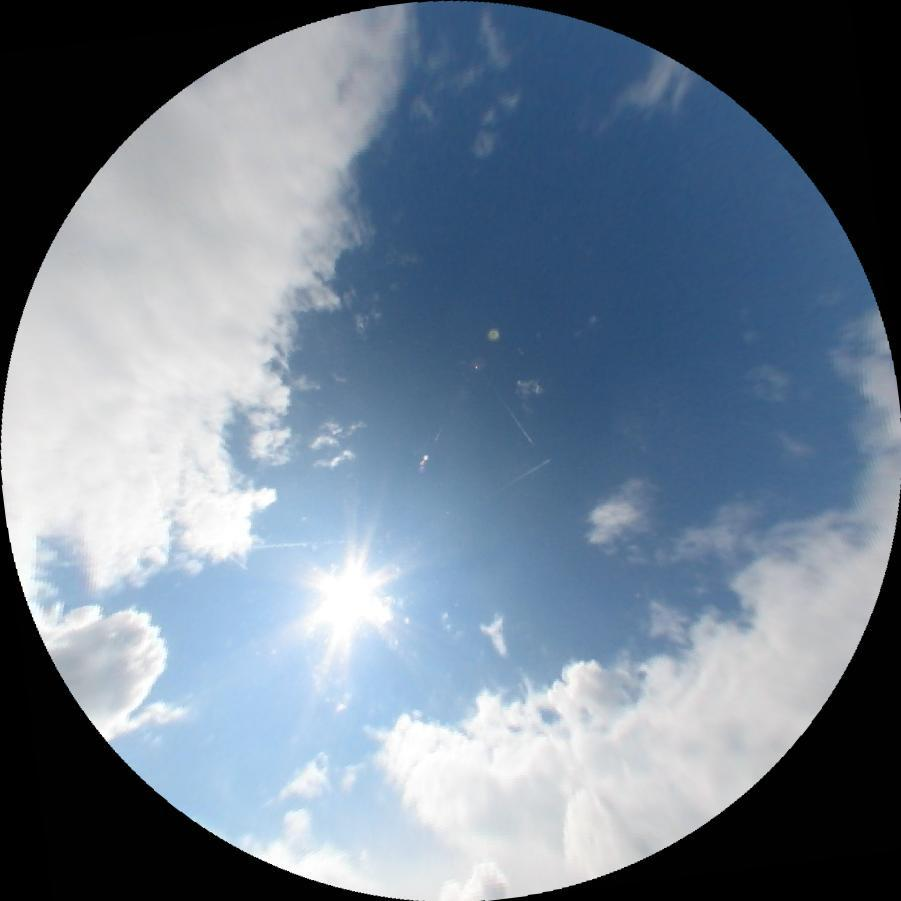contrail young: (485, 377, 533, 444), (499, 457, 550, 492), (227, 552, 248, 570)
parasite: (249, 541, 307, 549)
sun: (317, 570, 375, 620)
